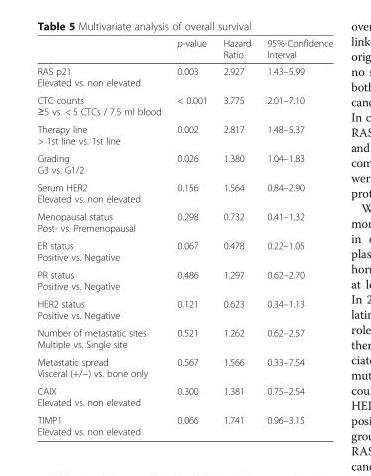table: (36, 37, 332, 436)
table column: (36, 37, 168, 436), (258, 37, 332, 436), (168, 37, 214, 436), (214, 37, 258, 436)
table column header: (36, 37, 332, 62)
table row: (36, 62, 332, 91), (36, 91, 332, 120), (36, 120, 332, 149), (36, 149, 332, 178), (36, 178, 332, 207), (36, 207, 332, 236), (36, 236, 332, 265), (36, 265, 332, 294), (36, 294, 332, 323), (36, 323, 332, 352), (36, 352, 332, 381), (36, 381, 332, 410), (36, 410, 332, 436), (36, 37, 332, 62)
